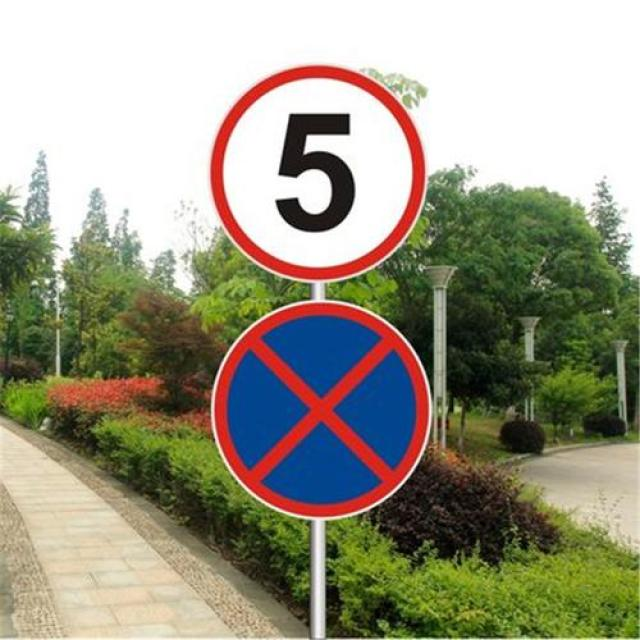speed limit 10: (210, 65, 429, 285)
